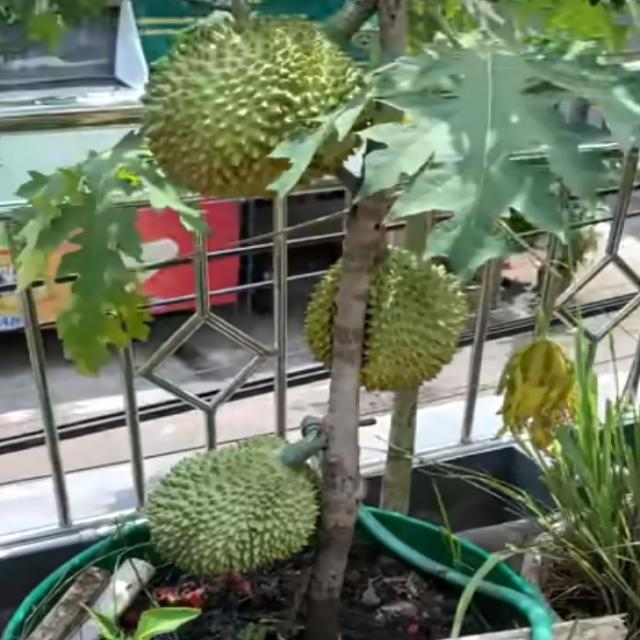immature: (141, 13, 368, 192), (143, 435, 334, 574), (303, 240, 472, 390)
